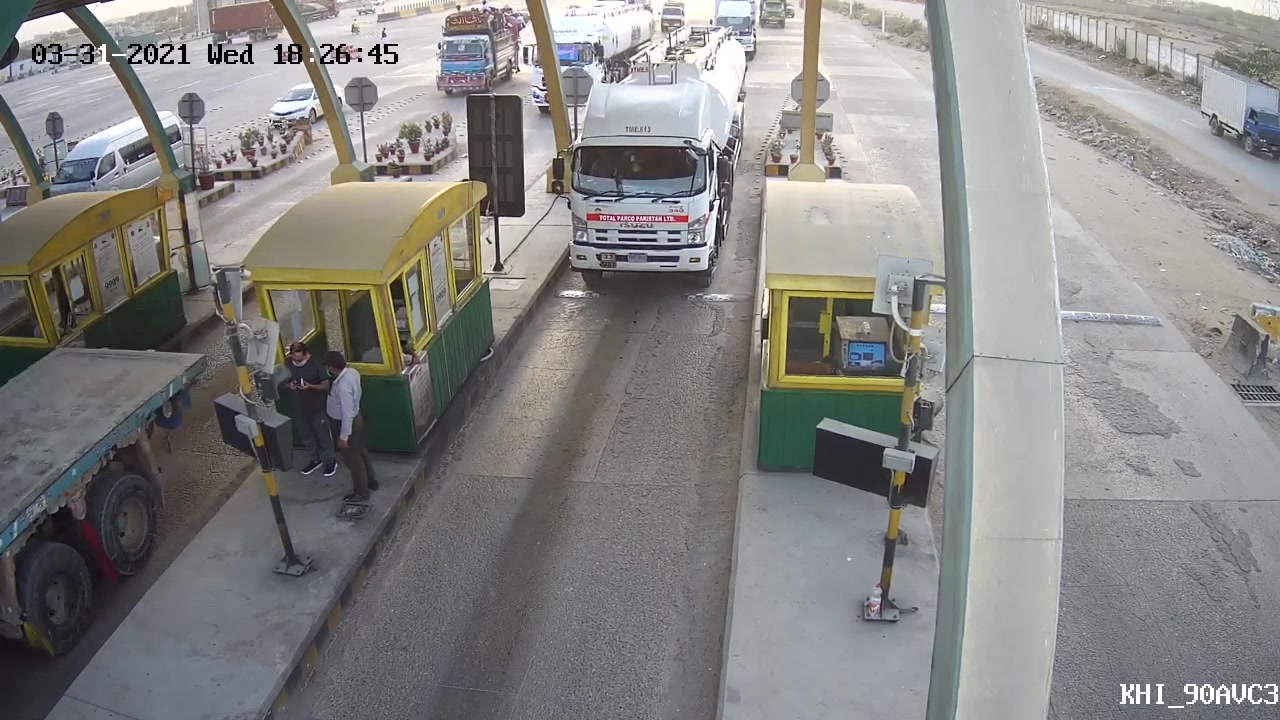F6: (543, 71, 751, 291)
